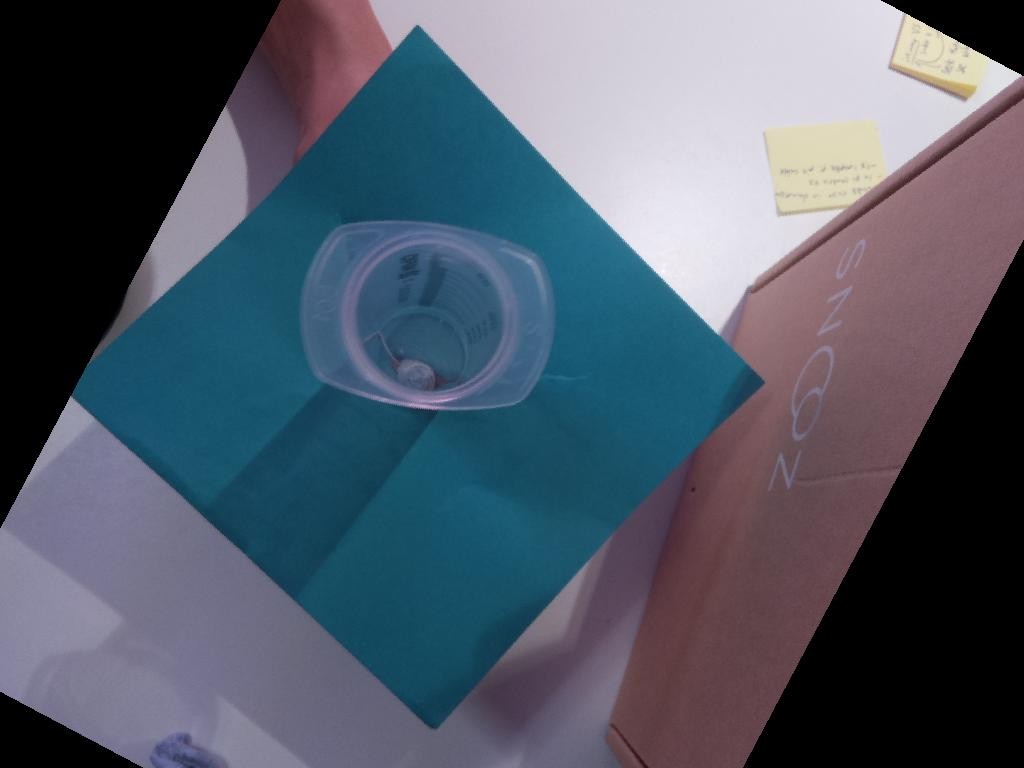clean: (301, 220, 555, 411)
